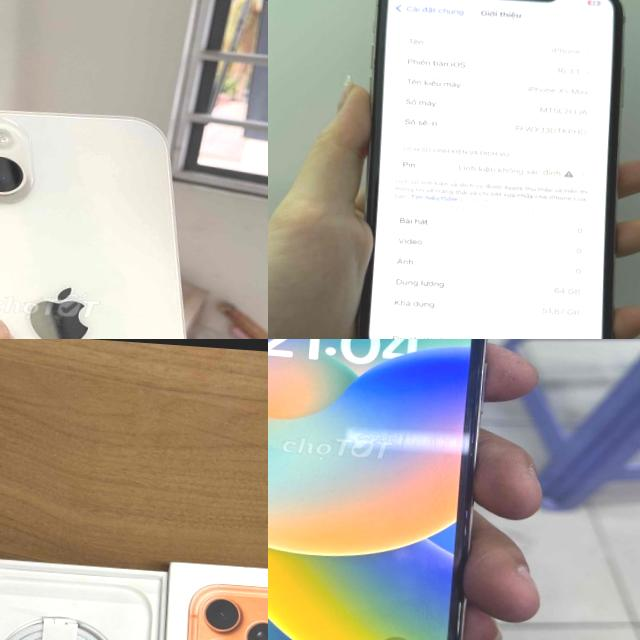gen_14: (0, 95, 243, 339)
gen_x_xs: (357, 0, 623, 339), (268, 339, 485, 640)
